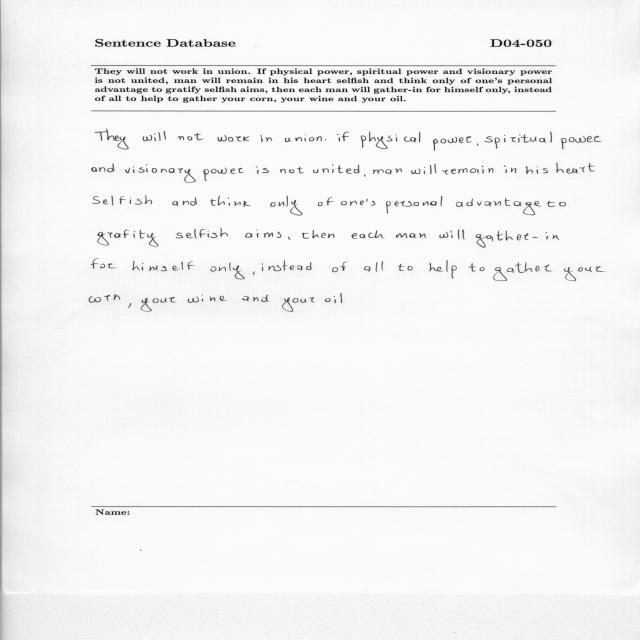word: (456, 198, 541, 215), (476, 231, 559, 248), (125, 164, 196, 183), (484, 132, 552, 149), (493, 262, 553, 281), (361, 131, 420, 149), (98, 230, 159, 247), (386, 196, 442, 214), (96, 129, 129, 149), (270, 196, 303, 216), (132, 261, 195, 271), (564, 266, 606, 281), (93, 196, 152, 206), (433, 136, 472, 151), (211, 263, 245, 280), (176, 228, 228, 239), (262, 261, 312, 272), (561, 136, 602, 149), (203, 168, 244, 181), (429, 260, 457, 278), (282, 297, 315, 312), (141, 297, 176, 311), (314, 164, 360, 174), (443, 166, 494, 175), (210, 196, 251, 207), (556, 163, 595, 174), (188, 294, 227, 303), (351, 230, 385, 239), (302, 230, 335, 239), (285, 134, 322, 142), (245, 230, 281, 238), (439, 229, 465, 240), (89, 294, 120, 303), (91, 259, 117, 269), (412, 164, 437, 174), (341, 199, 375, 206), (143, 131, 166, 141), (172, 198, 197, 207), (218, 135, 250, 142), (364, 261, 383, 272), (92, 164, 114, 173), (177, 133, 203, 140), (242, 295, 268, 302), (526, 166, 548, 174), (373, 169, 402, 175), (280, 167, 304, 174), (332, 262, 348, 272), (396, 233, 426, 238), (318, 197, 334, 206), (469, 263, 484, 272), (337, 132, 349, 142), (547, 201, 566, 207), (398, 264, 413, 271), (256, 166, 269, 174), (504, 166, 516, 174), (261, 135, 272, 142), (325, 296, 336, 303), (340, 293, 342, 303), (128, 303, 131, 308), (253, 271, 255, 275), (364, 174, 366, 177), (288, 237, 290, 240), (477, 143, 478, 146), (325, 140, 326, 141)
